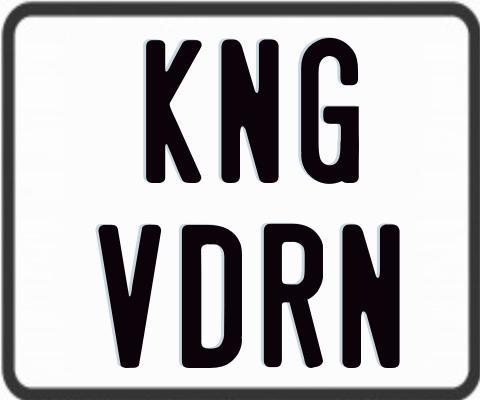D: (179, 223, 243, 371)
G: (298, 38, 362, 189)
K: (145, 39, 204, 183)
N: (342, 224, 405, 368), (219, 39, 277, 183)
R: (264, 222, 323, 371)
V: (96, 225, 163, 374)
